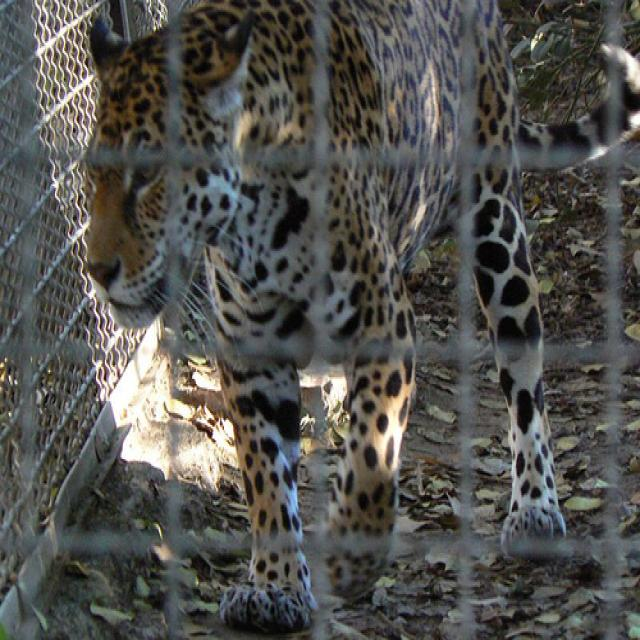Leopard: (79, 0, 567, 635)
